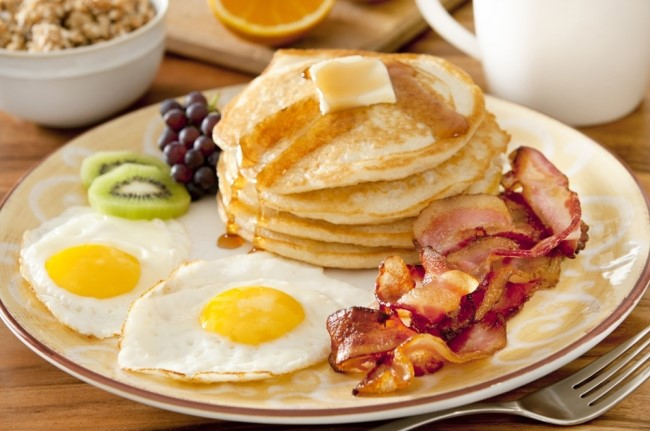fried egg: (125, 264, 348, 375), (26, 218, 175, 320)
